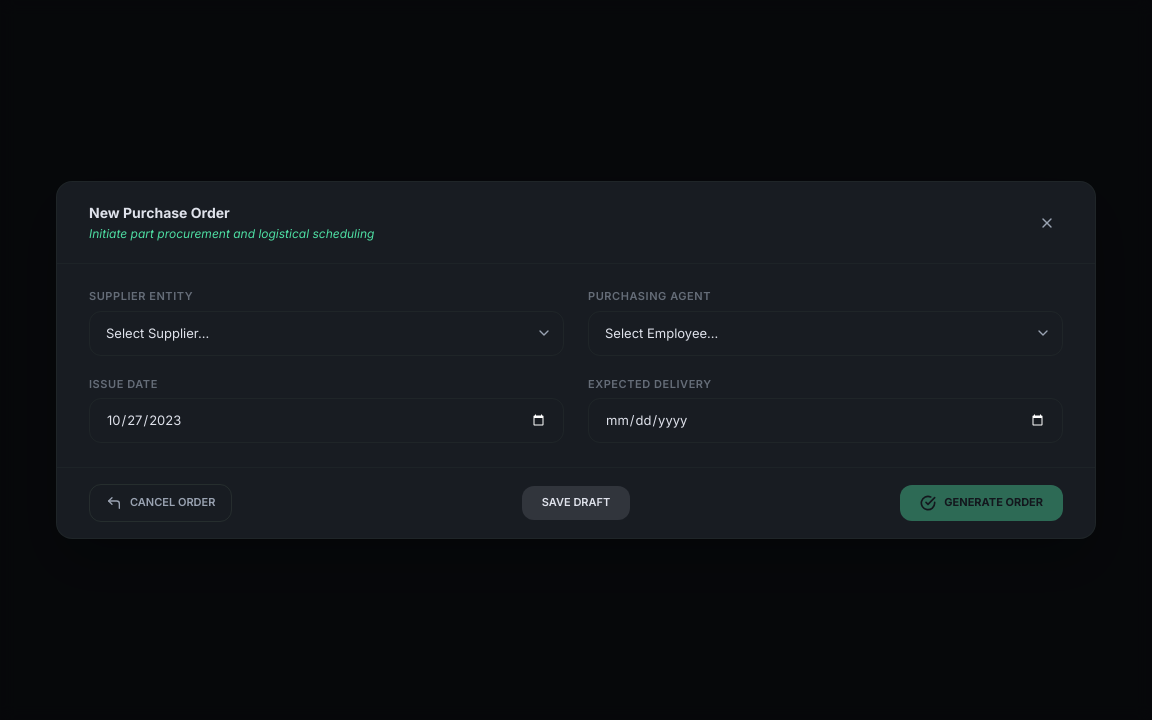
Test: PurchaseOrderFormModal 3.2 — Date Pickers e Validação › mensagem de erro contém texto sobre data posterior
Type "2023-09-01" into the date field labelled "Expected Delivery".
click(826, 420); type("2023-09-01")  # box 588,398 -> 1063,443
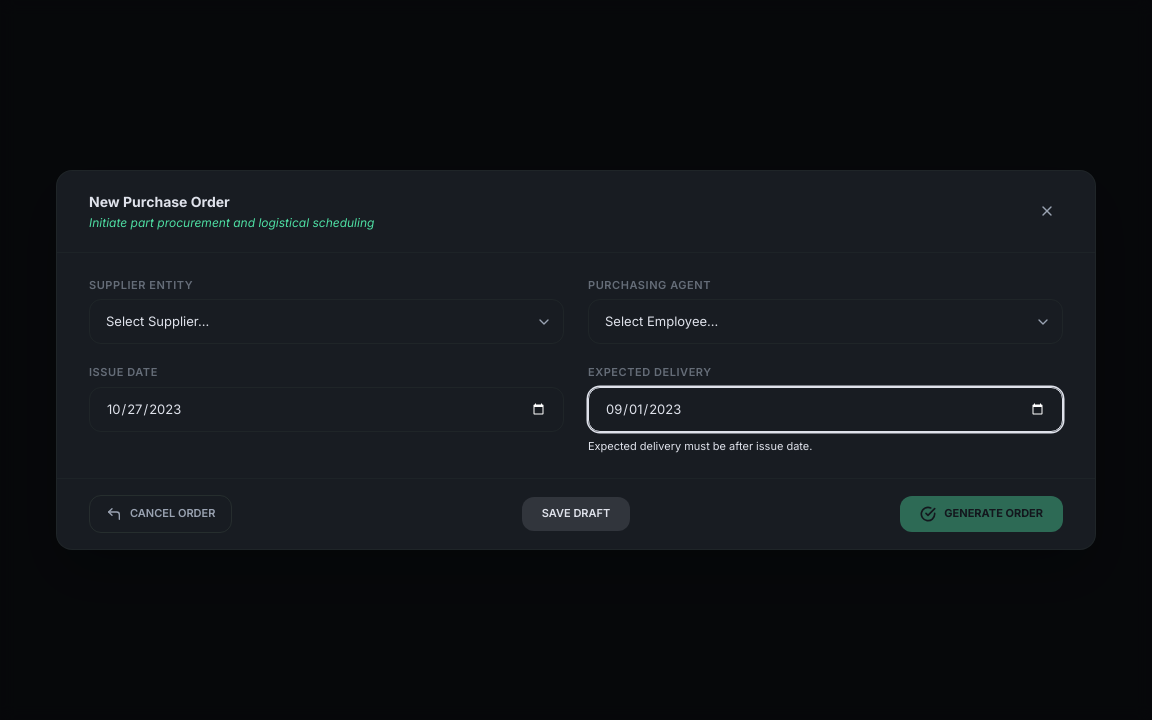
Check: the message shows "after issue date", box 588,439 -> 812,453
